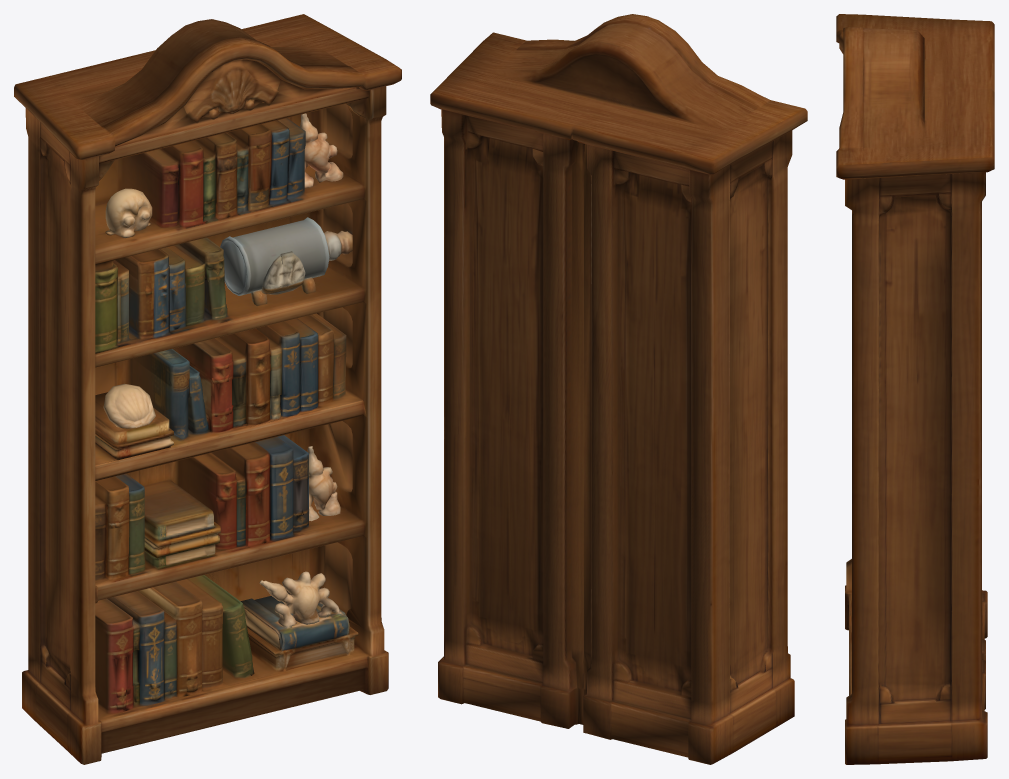
File: bookshelf.glb
The picture shows the model from 3 angles, left to right: view 1: azimuth 30°, elevation 25°; view 2: azimuth 150°, elevation 25°; view 3: azimuth 270°, elevation 25°; orthographic projection. The views are drawn at different scales.
Visible parts, largest first — view 1: tripo_node_fac9583f-1e12-4a27-9b00-45d88fbae9cb; view 2: tripo_node_fac9583f-1e12-4a27-9b00-45d88fbae9cb; view 3: tripo_node_fac9583f-1e12-4a27-9b00-45d88fbae9cb.
Part boxes in pixels (x1,y1,x2,y2): tripo_node_fac9583f-1e12-4a27-9b00-45d88fbae9cb: (14,14,401,764); tripo_node_fac9583f-1e12-4a27-9b00-45d88fbae9cb: (430,14,807,764); tripo_node_fac9583f-1e12-4a27-9b00-45d88fbae9cb: (836,14,994,764).
Bounding box in the file's own units: 0.488 × 0.9779 × 0.2124.
1 material, 1 textured.
